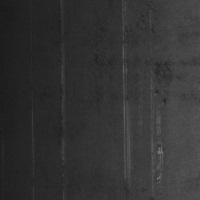scratches: (58, 8, 70, 187), (120, 37, 134, 185), (146, 91, 166, 193)
